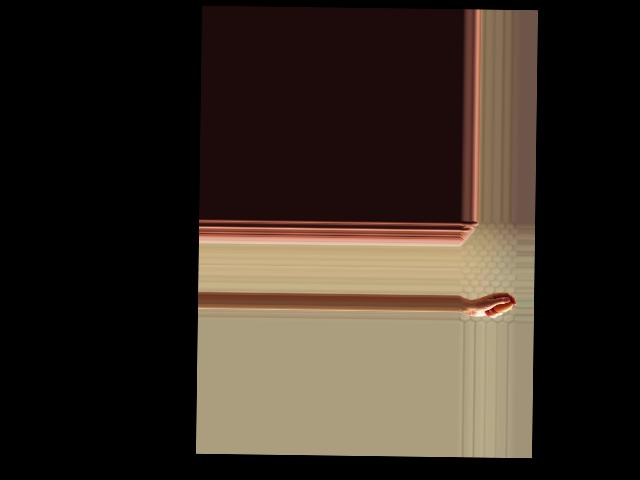egg: (492, 298, 512, 313)
